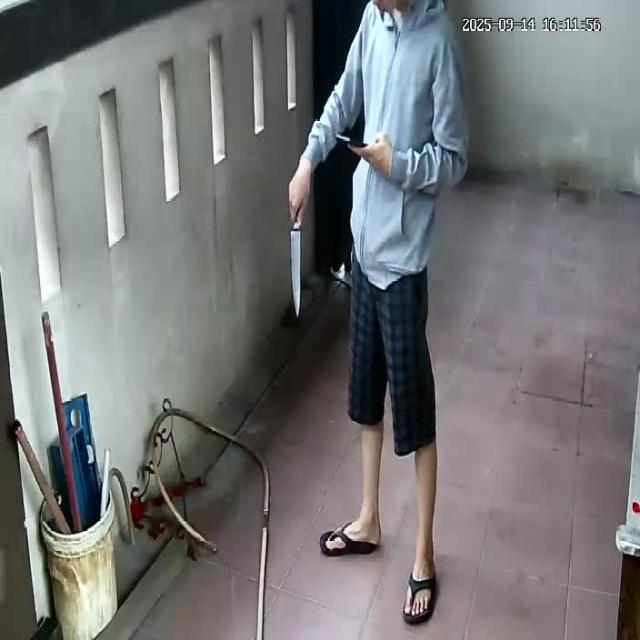senjata_tajam: (290, 225, 304, 320)
